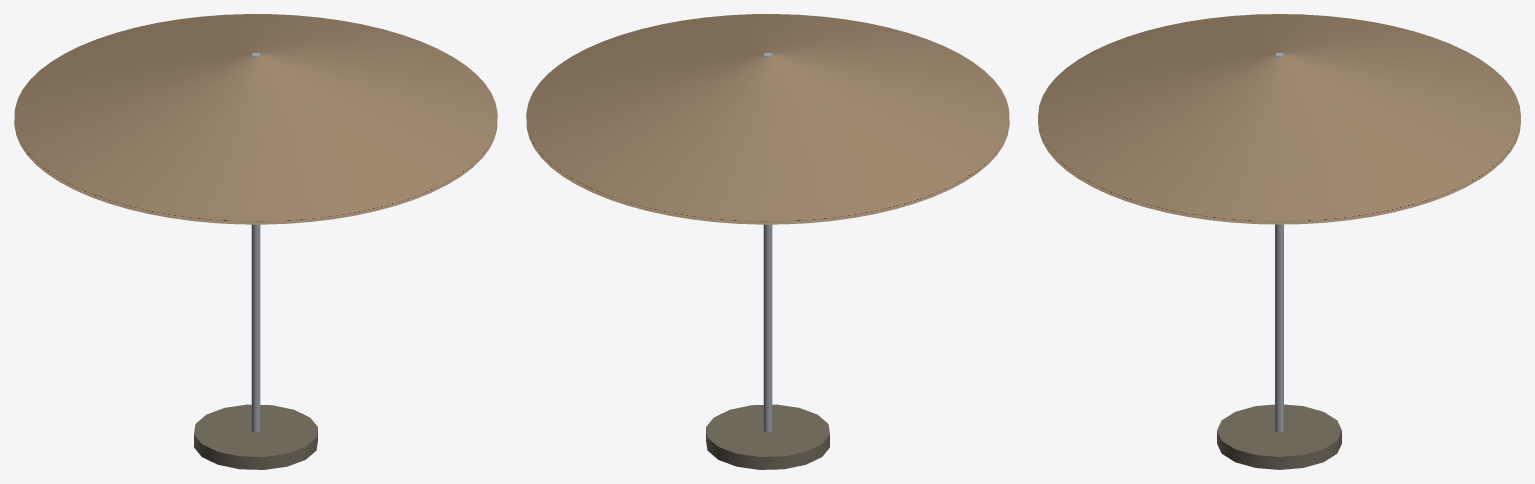
File: Napernyo.obj
3 views of the same model, side by side, from view 1: azimuth 30°, elevation 25°; view 2: azimuth 150°, elevation 25°; view 3: azimuth 270°, elevation 25° (orthographic).
Bounding box in the file's own units: 2.7 × 2.4 × 2.7.
